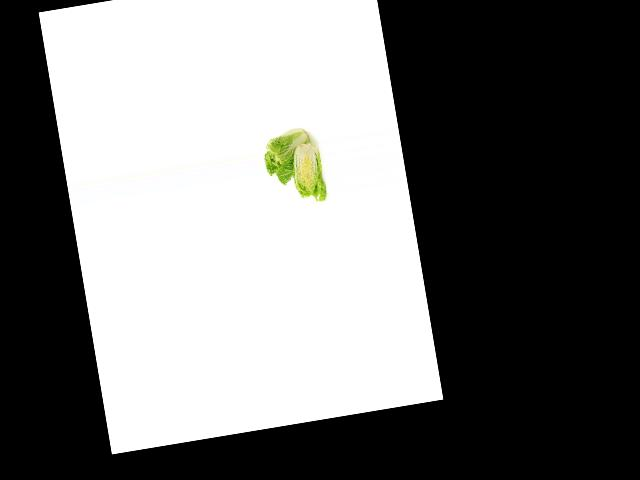lettuce: (257, 124, 319, 191)
